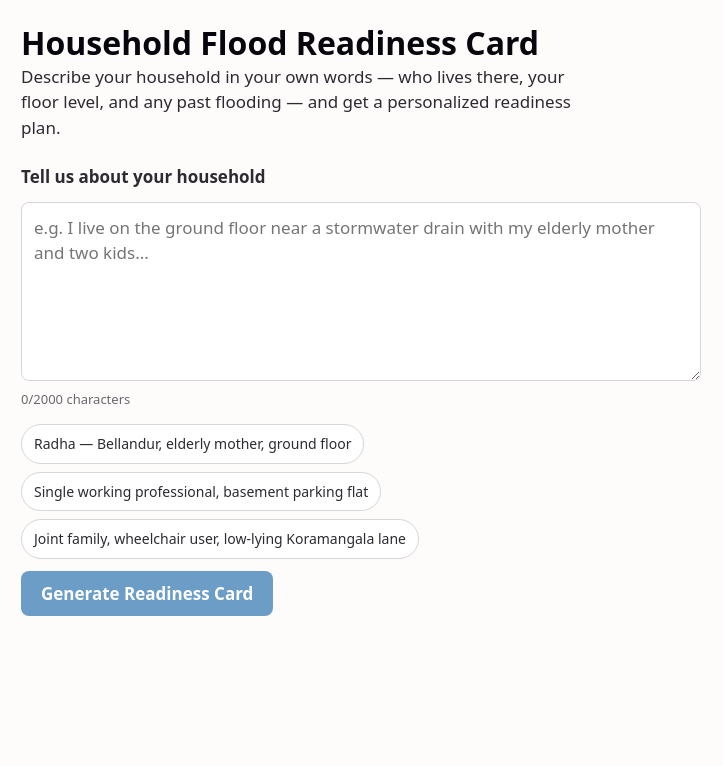
App › renders the readiness card on success
The width and height of the screenshot is (723, 766).
In the text box labelled "Tell us about your household": (361, 291) [21, 202, 701, 380], type "I live on the ground floor with my elderly mother and two kids."
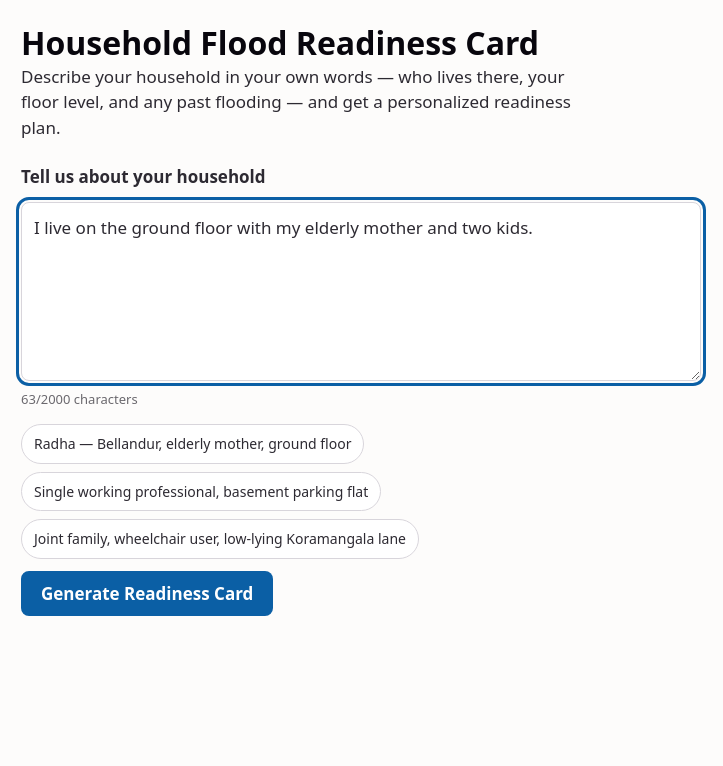
Click the button "Generate Readiness Card": (147, 593) [21, 570, 273, 616]
(page scrolled)
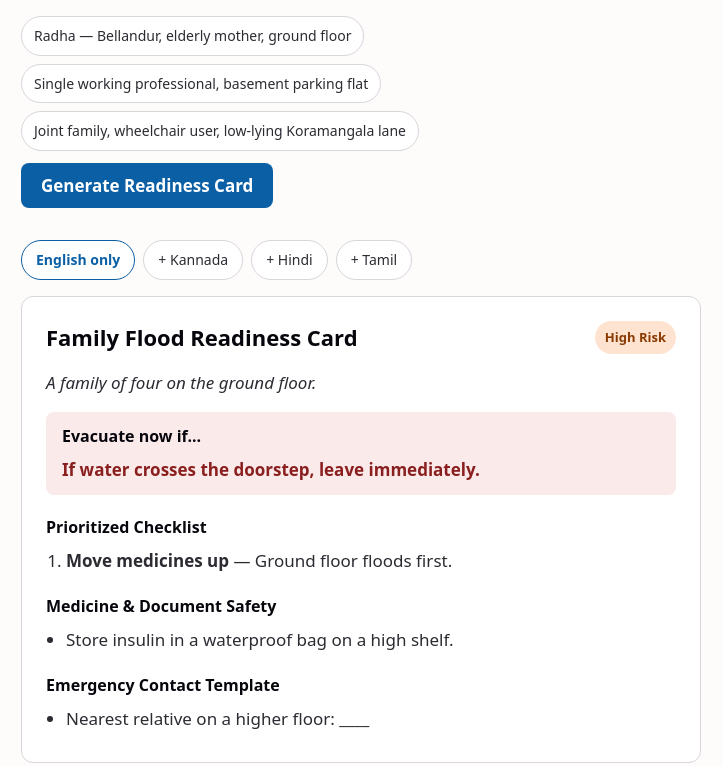
Expected: the text "A family of four on the ground floor." is shown, [46, 371, 316, 394]
